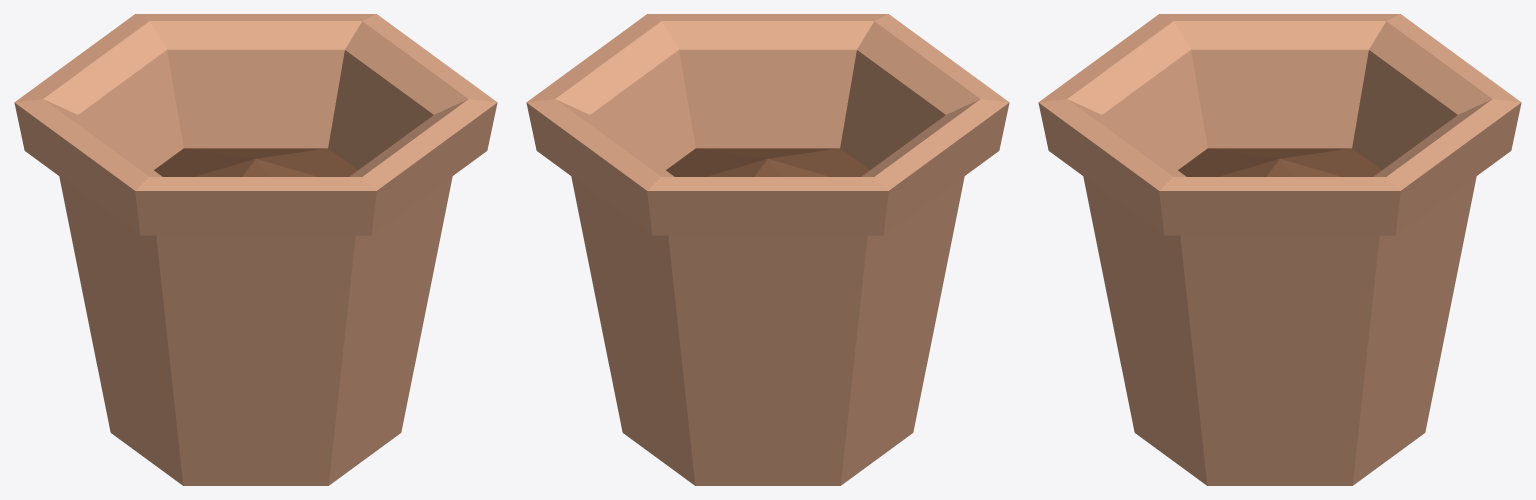
Rendered from Pot.fbx.
3 renders of one model, left to right at view 1: azimuth 30°, elevation 25°; view 2: azimuth 150°, elevation 25°; view 3: azimuth 270°, elevation 25°, orthographic.
Visible parts, largest first — view 1: Pot; view 2: Pot; view 3: Pot.
Boxes of the visible parts, <box> form: Pot: <box>14,14,497,485</box>; Pot: <box>526,14,1009,485</box>; Pot: <box>1038,14,1521,485</box>.
Bounding box in the file's own units: 0.8743 × 0.7694 × 1.01.
